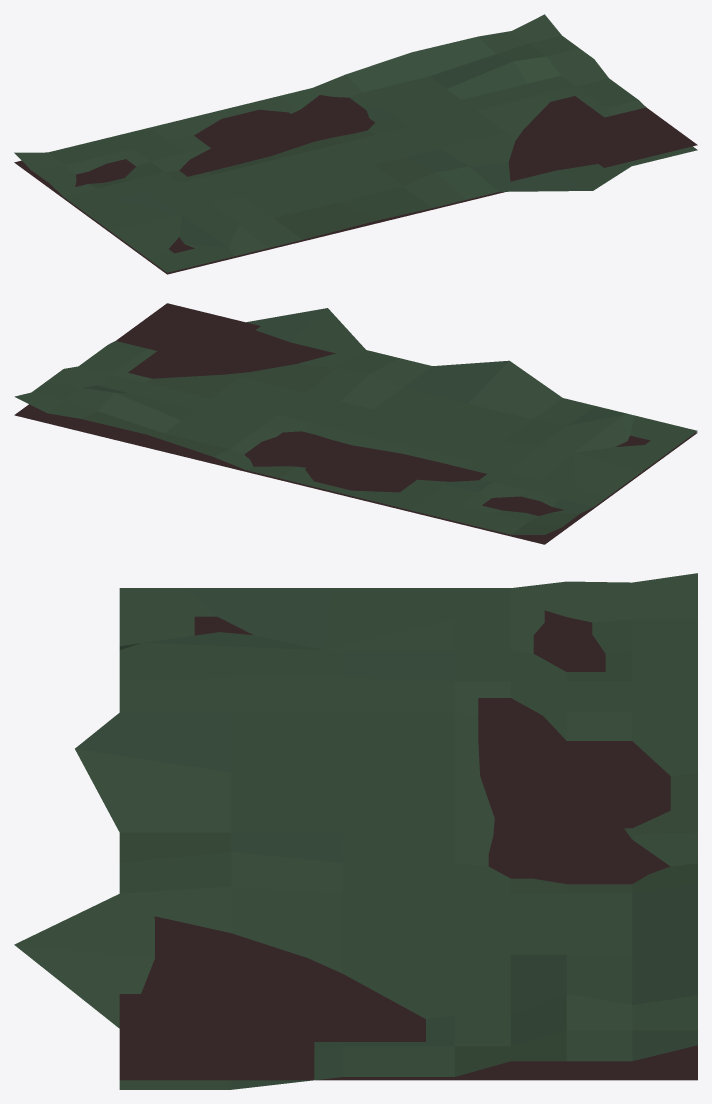
The model's file is suelo.fbx.
3 views of the same model, one above another, from view 1: azimuth 30°, elevation 25°; view 2: azimuth 150°, elevation 25°; view 3: azimuth 270°, elevation 25° (orthographic). The views are drawn at different scales.
Visible parts, largest first — view 1: suelo_tierra; view 2: suelo_tierra; view 3: suelo_tierra.
Boxes of the visible parts, bbox=[...] form: suelo_tierra: bbox=[14, 14, 697, 274]; suelo_tierra: bbox=[14, 303, 697, 544]; suelo_tierra: bbox=[14, 573, 697, 1089].
Size of the model in its own units: 8000 by 375 by 4730.
